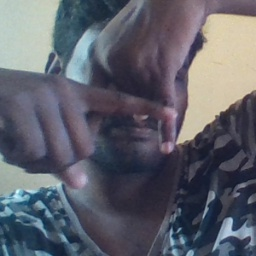H: (67, 51, 190, 169)
